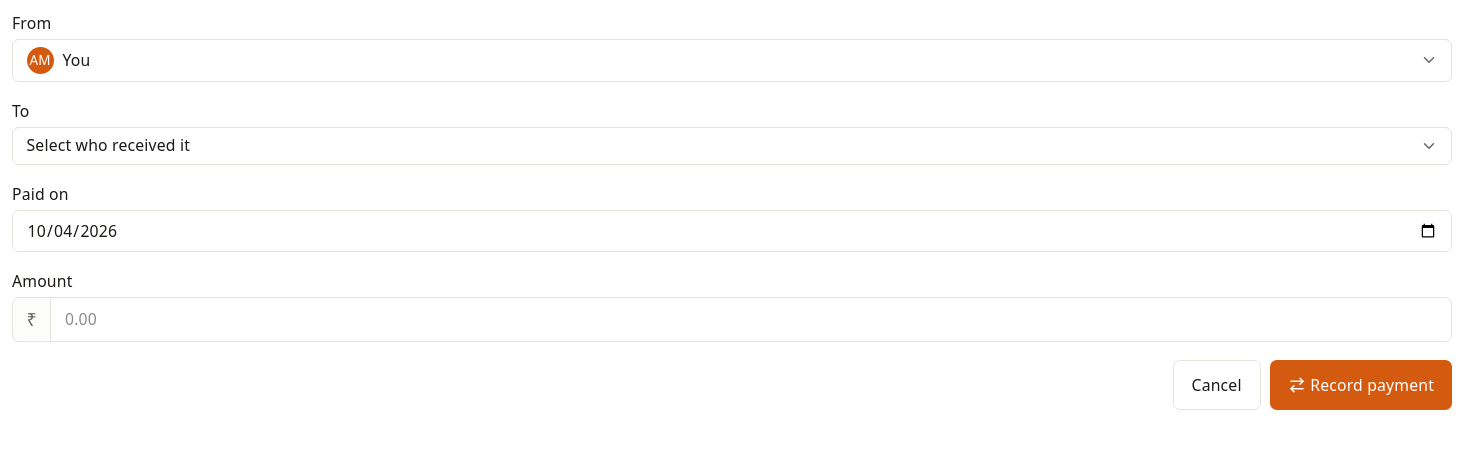
Test: RecordPaymentForm › shows a validation error when submitted without selecting who received it
Type "25" into the number field labelled "Amount".
click(751, 320); type("25")  # box [52,298,1451,341]
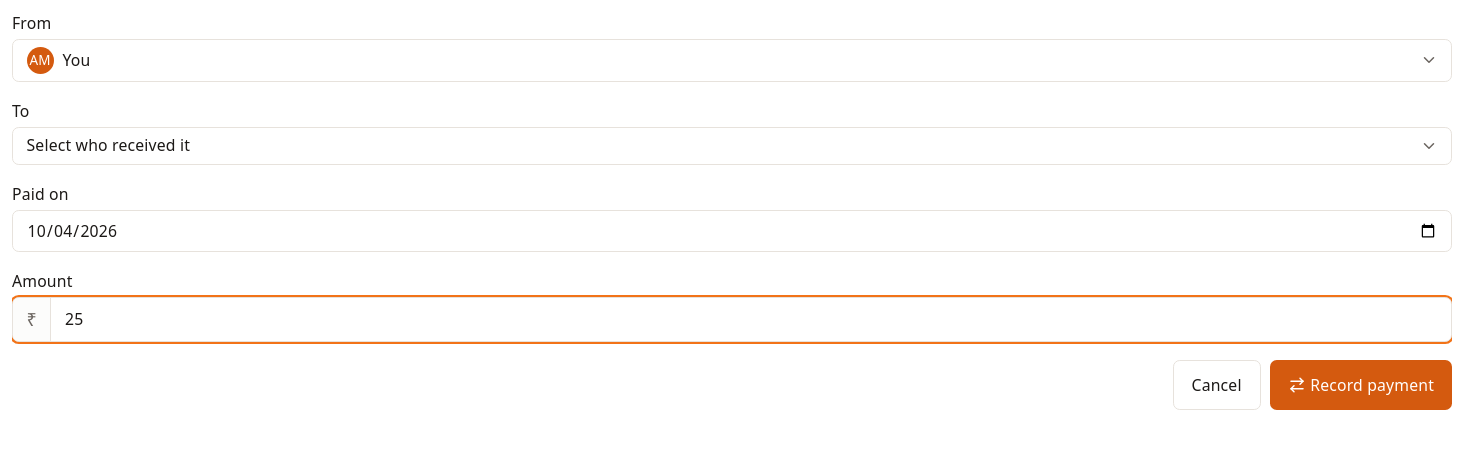
Click the button "Record payment".
click(1361, 385)  # box [1270,360,1452,410]
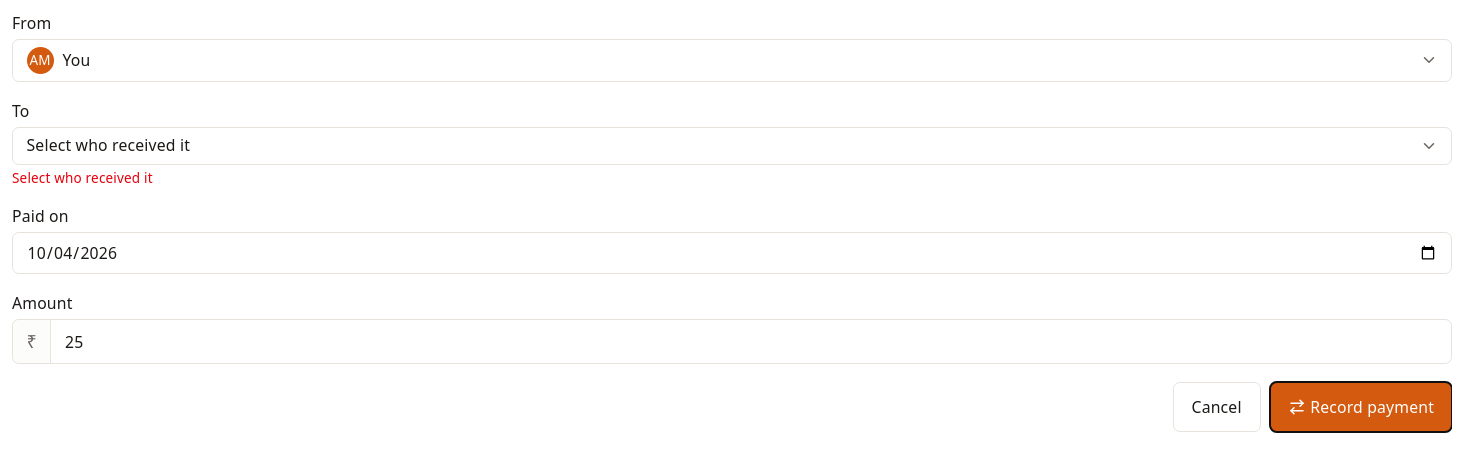
Result: the 2nd text "Select who received it" is shown at [12,169,153,187]
